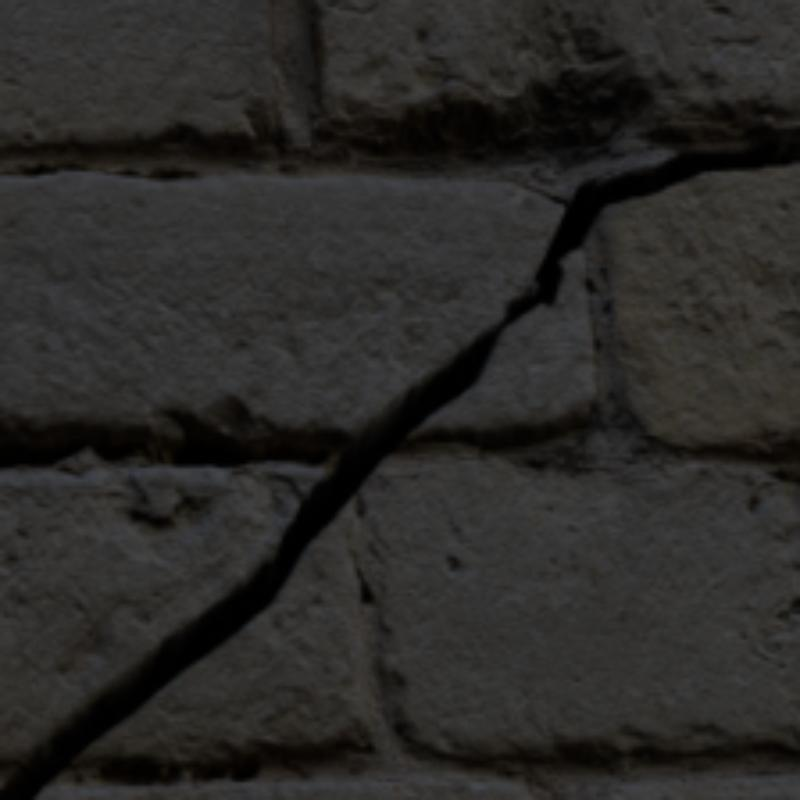crack: (0, 129, 796, 796)
